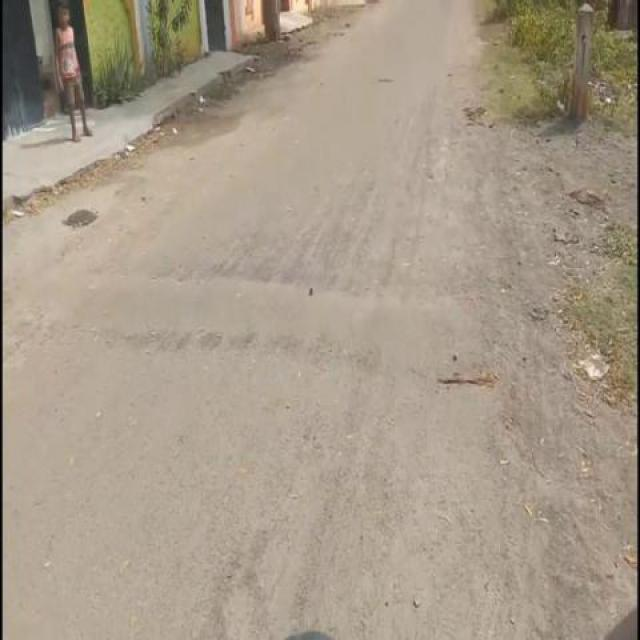Unmarked Bump: (14, 263, 472, 362)
